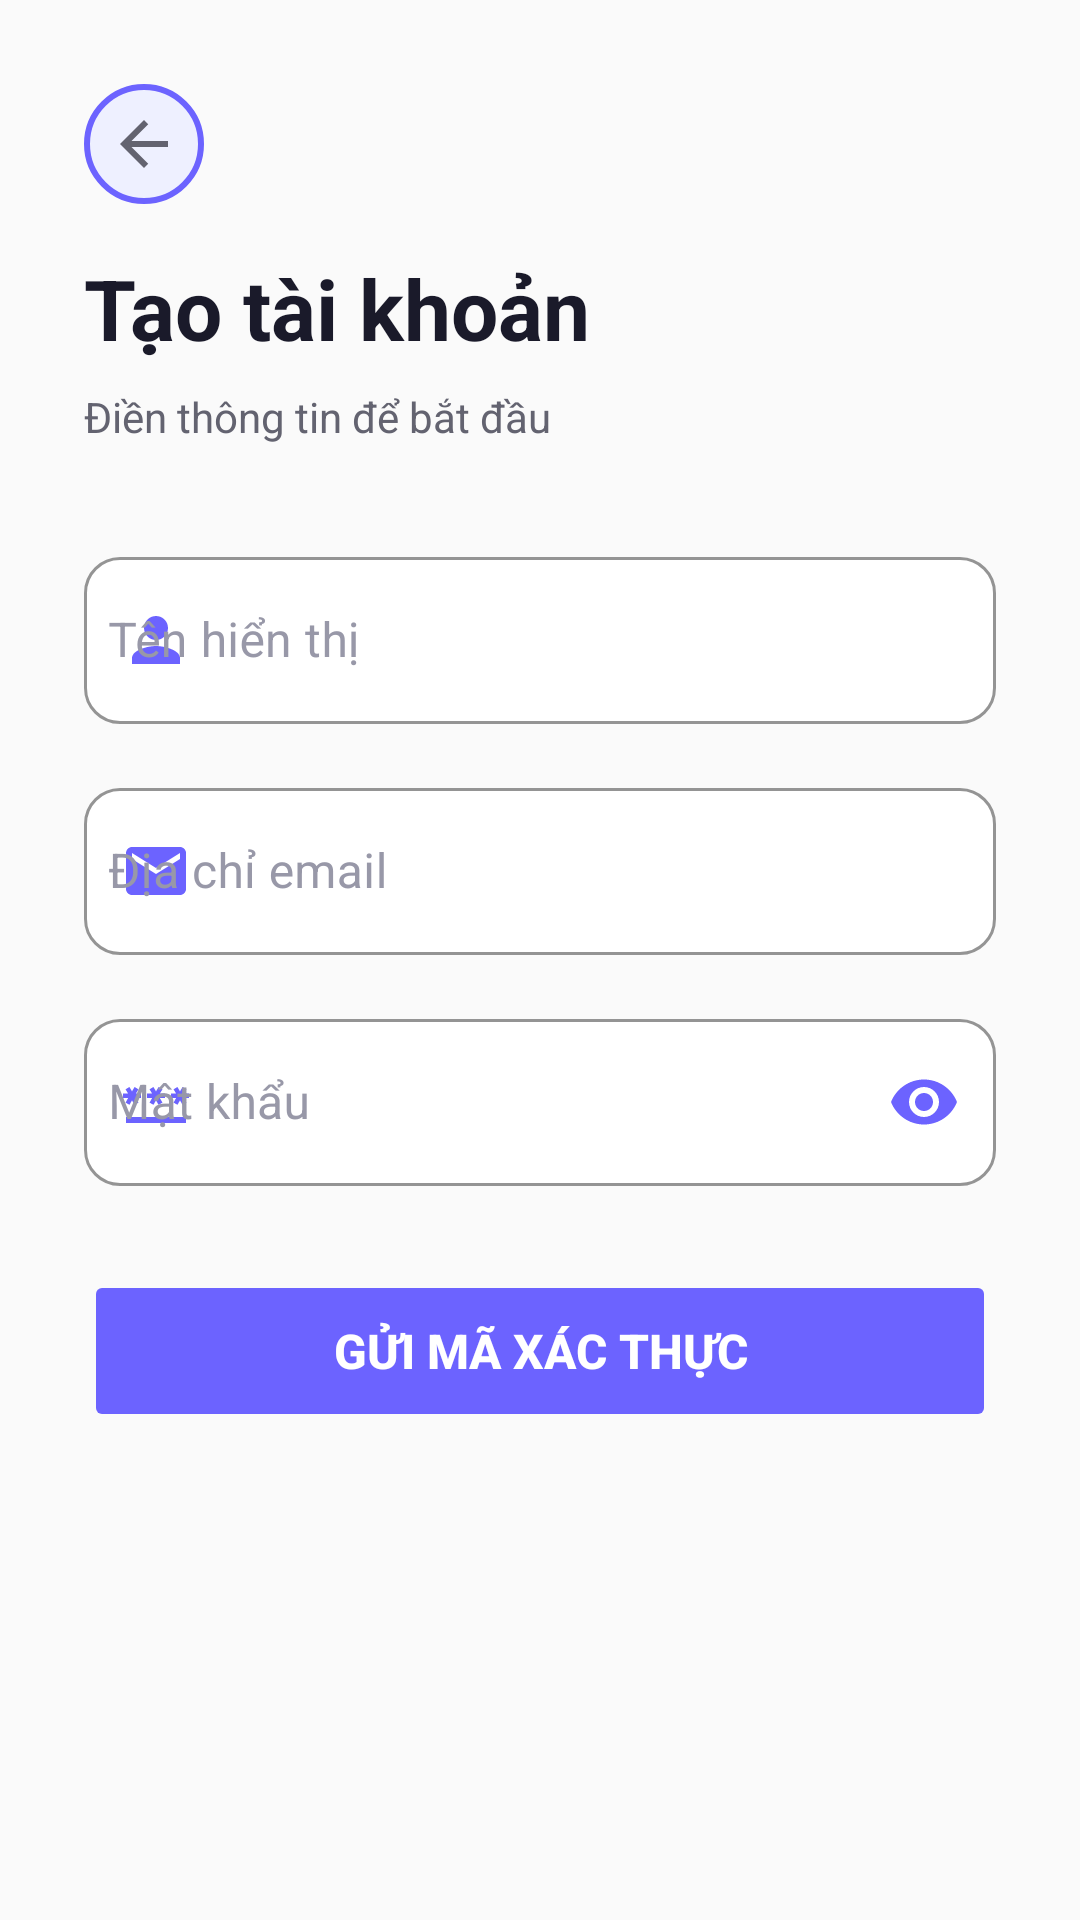

Locate icon controls on the screen. Image size 1080*1920, boxes as BBox(x1, y1, x2, y2).
Trở về: BBox(84, 84, 204, 204)
